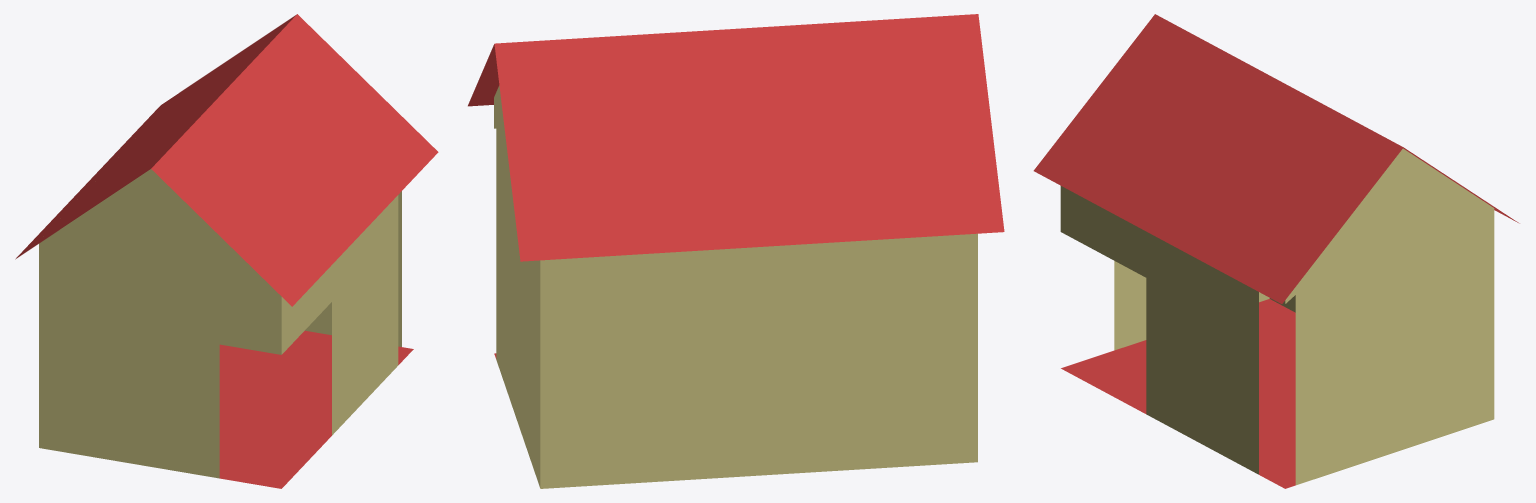
3 views of the same model, side by side, from view 1: azimuth 30°, elevation 25°; view 2: azimuth 150°, elevation 25°; view 3: azimuth 270°, elevation 25° (orthographic). The views are drawn at different scales.
Bounding box in the file's own units: 19.53 × 18.9 × 13.36.
